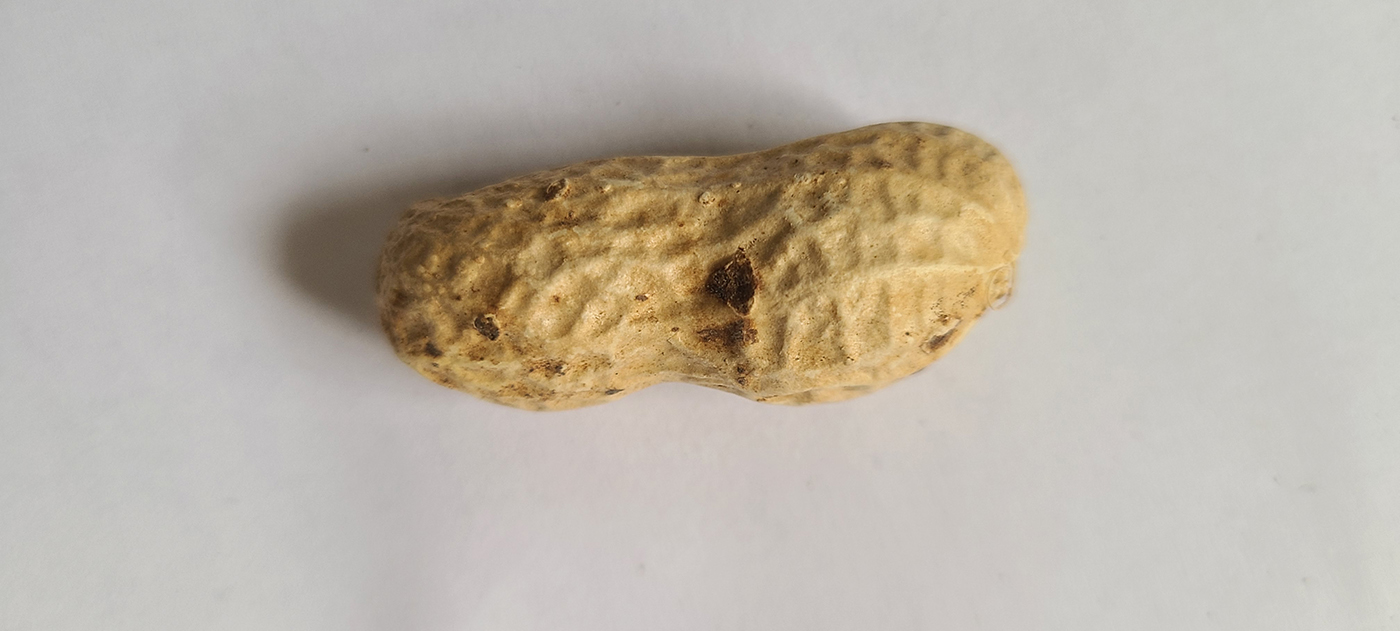h: (369, 119, 1030, 412)
